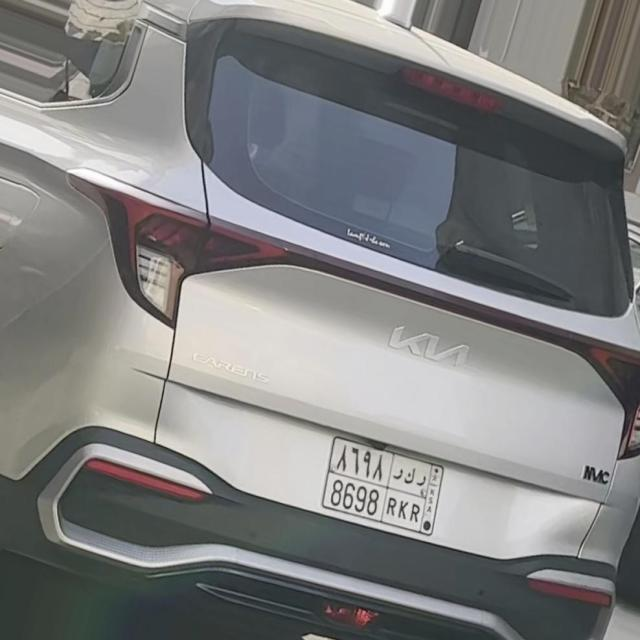Car-plate: (303, 417, 480, 550)
